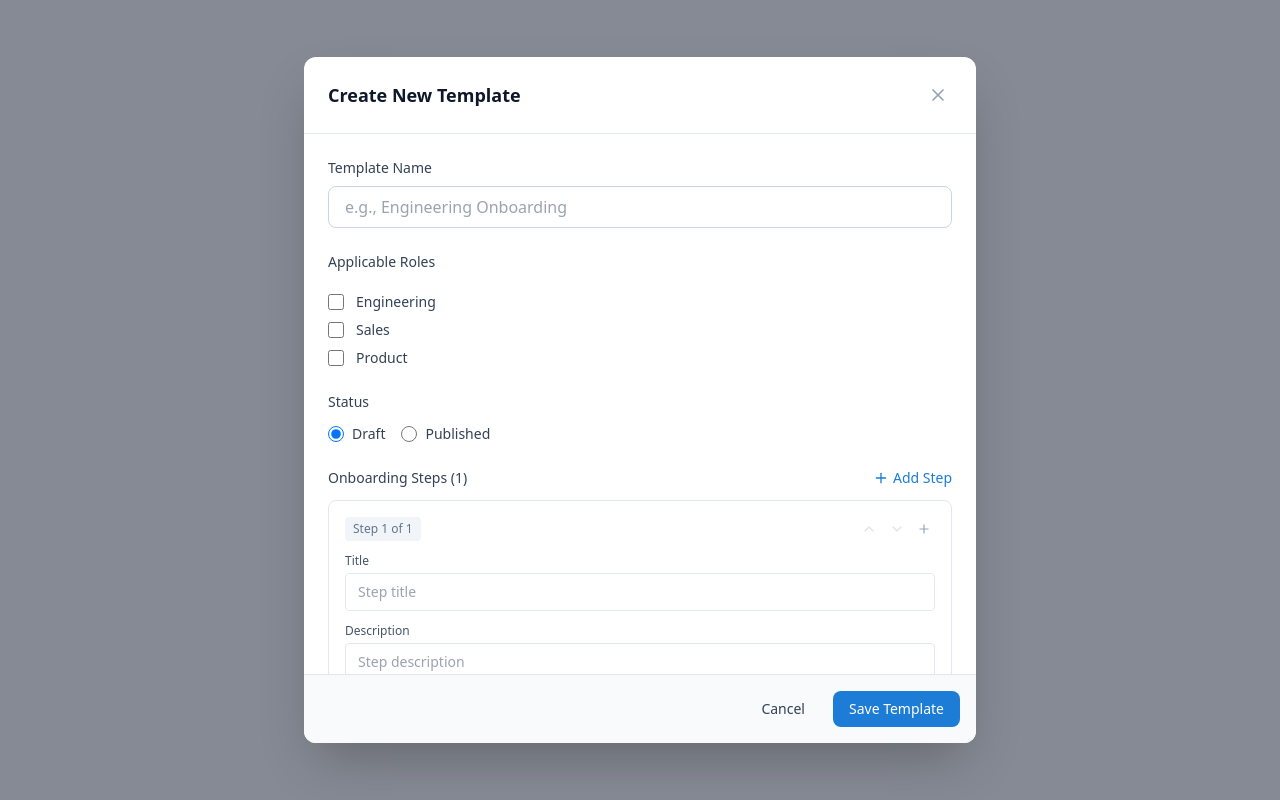
Test: TemplateModal › TemplateModal - create mode › should validate at least one step with title and description
In the field labelled "Template Name": (640, 207) [328,186,952,228], type "Test Template"
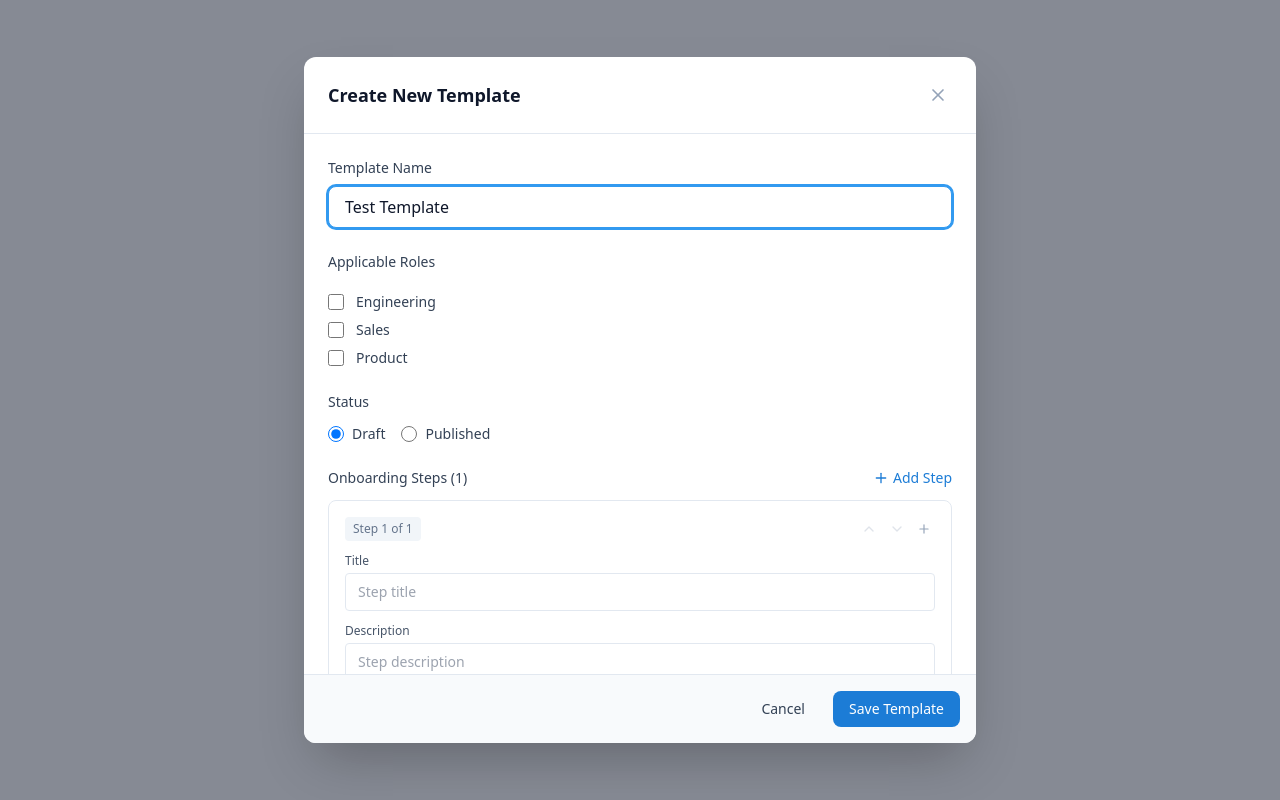
Click the checkbox named "Include Engineering role": (336, 302) [328,294,344,310]
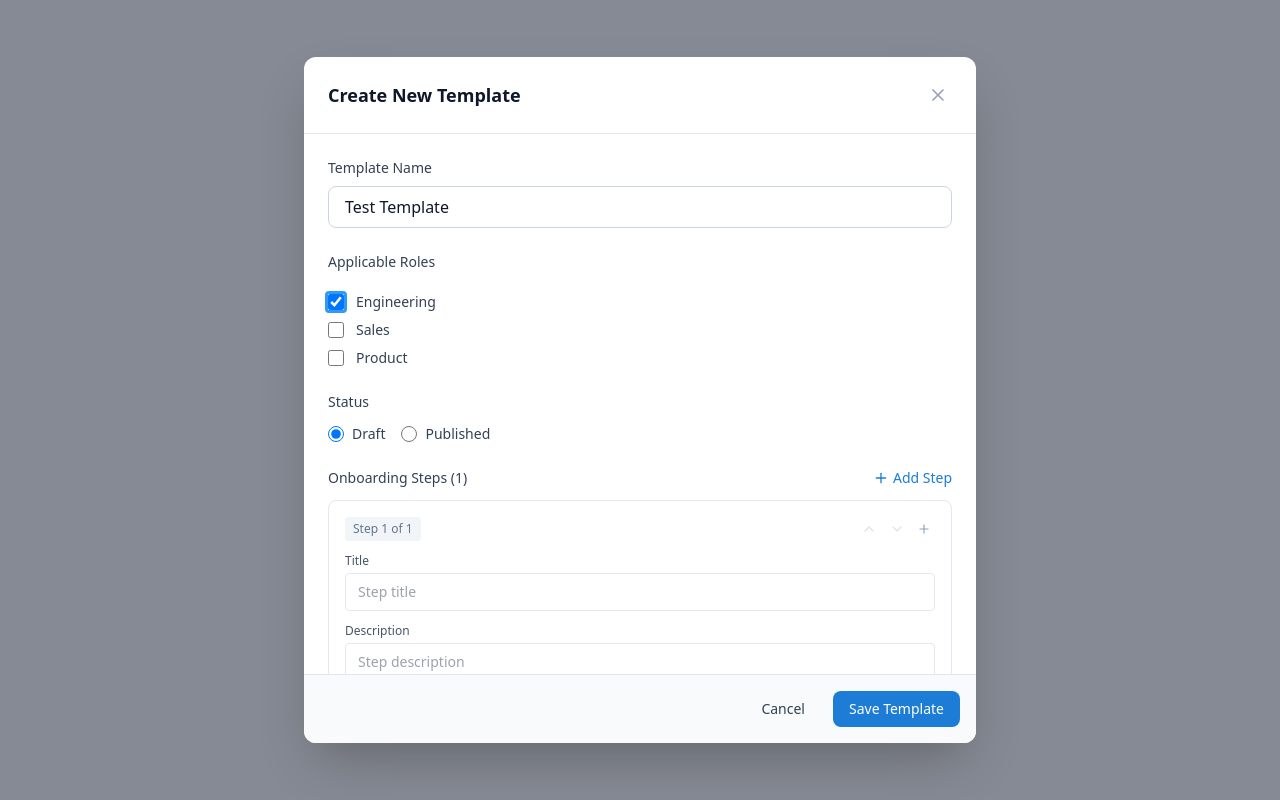
Click the button "Save Template": (896, 709) [833,691,960,727]
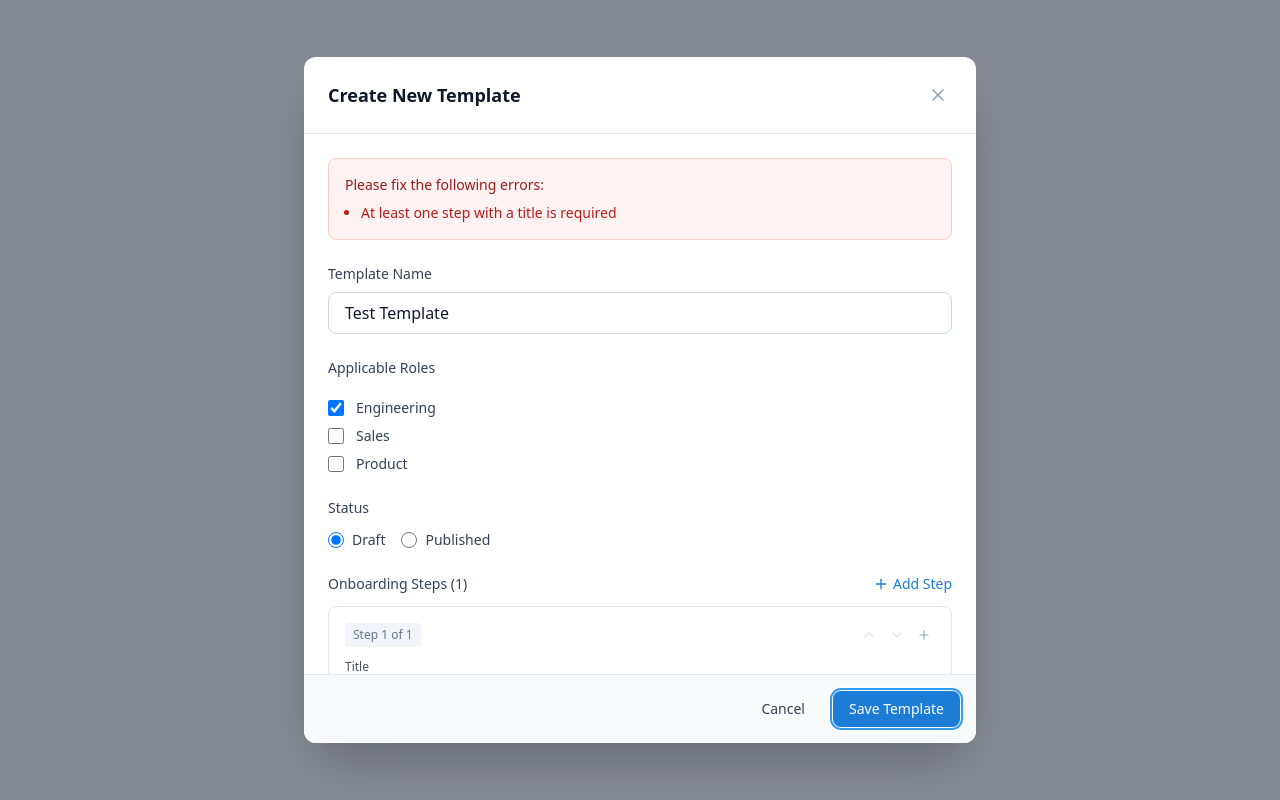
Now the list item "At least one step with a title is required" is shown, box [361,203,616,222]
